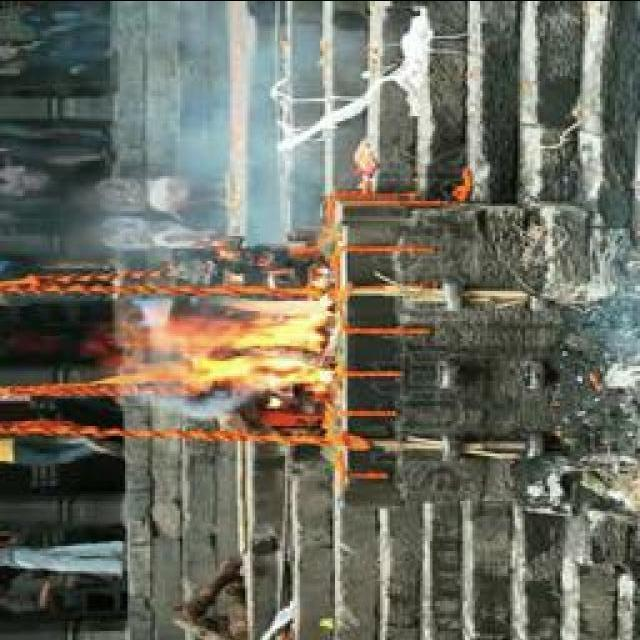Fire: (130, 293, 338, 394)
